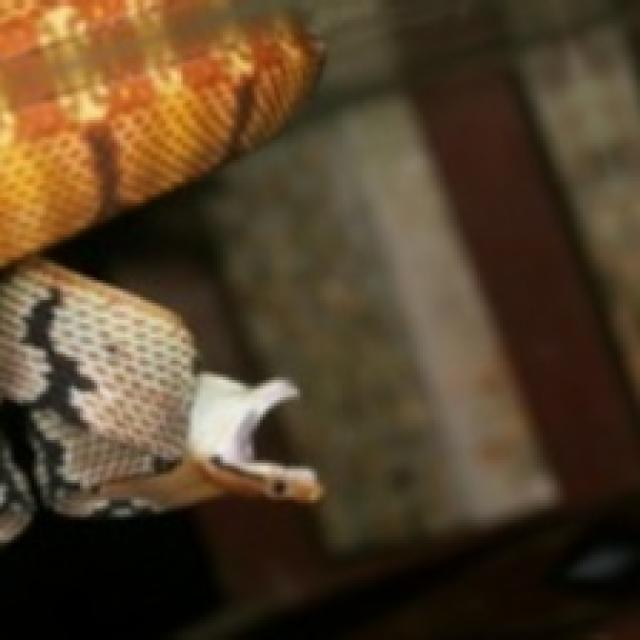dog-toothed cat snake: (0, 0, 320, 540)
